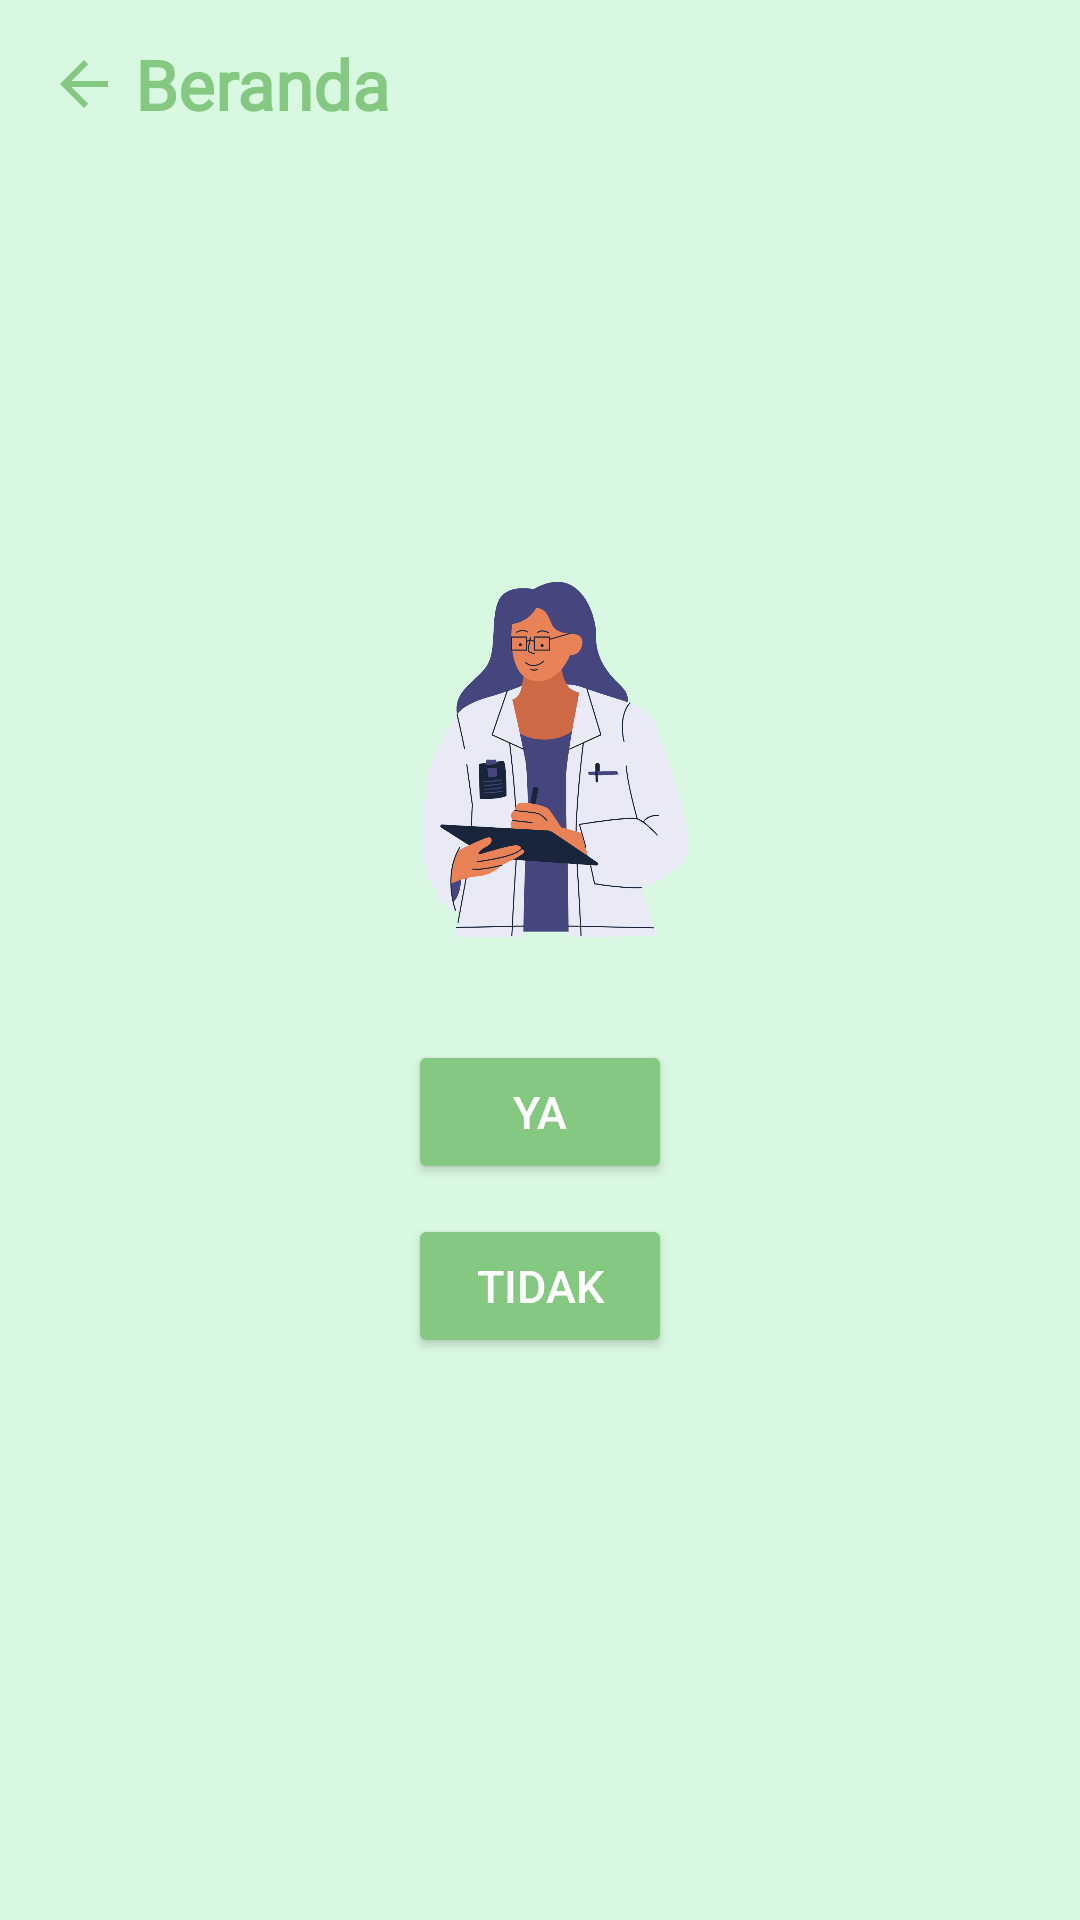

Where to tap for icons on this 1080x1920 app screen, as point (x, y):
back: point (84, 84)
dokter bertanya ilust: point (555, 759)
